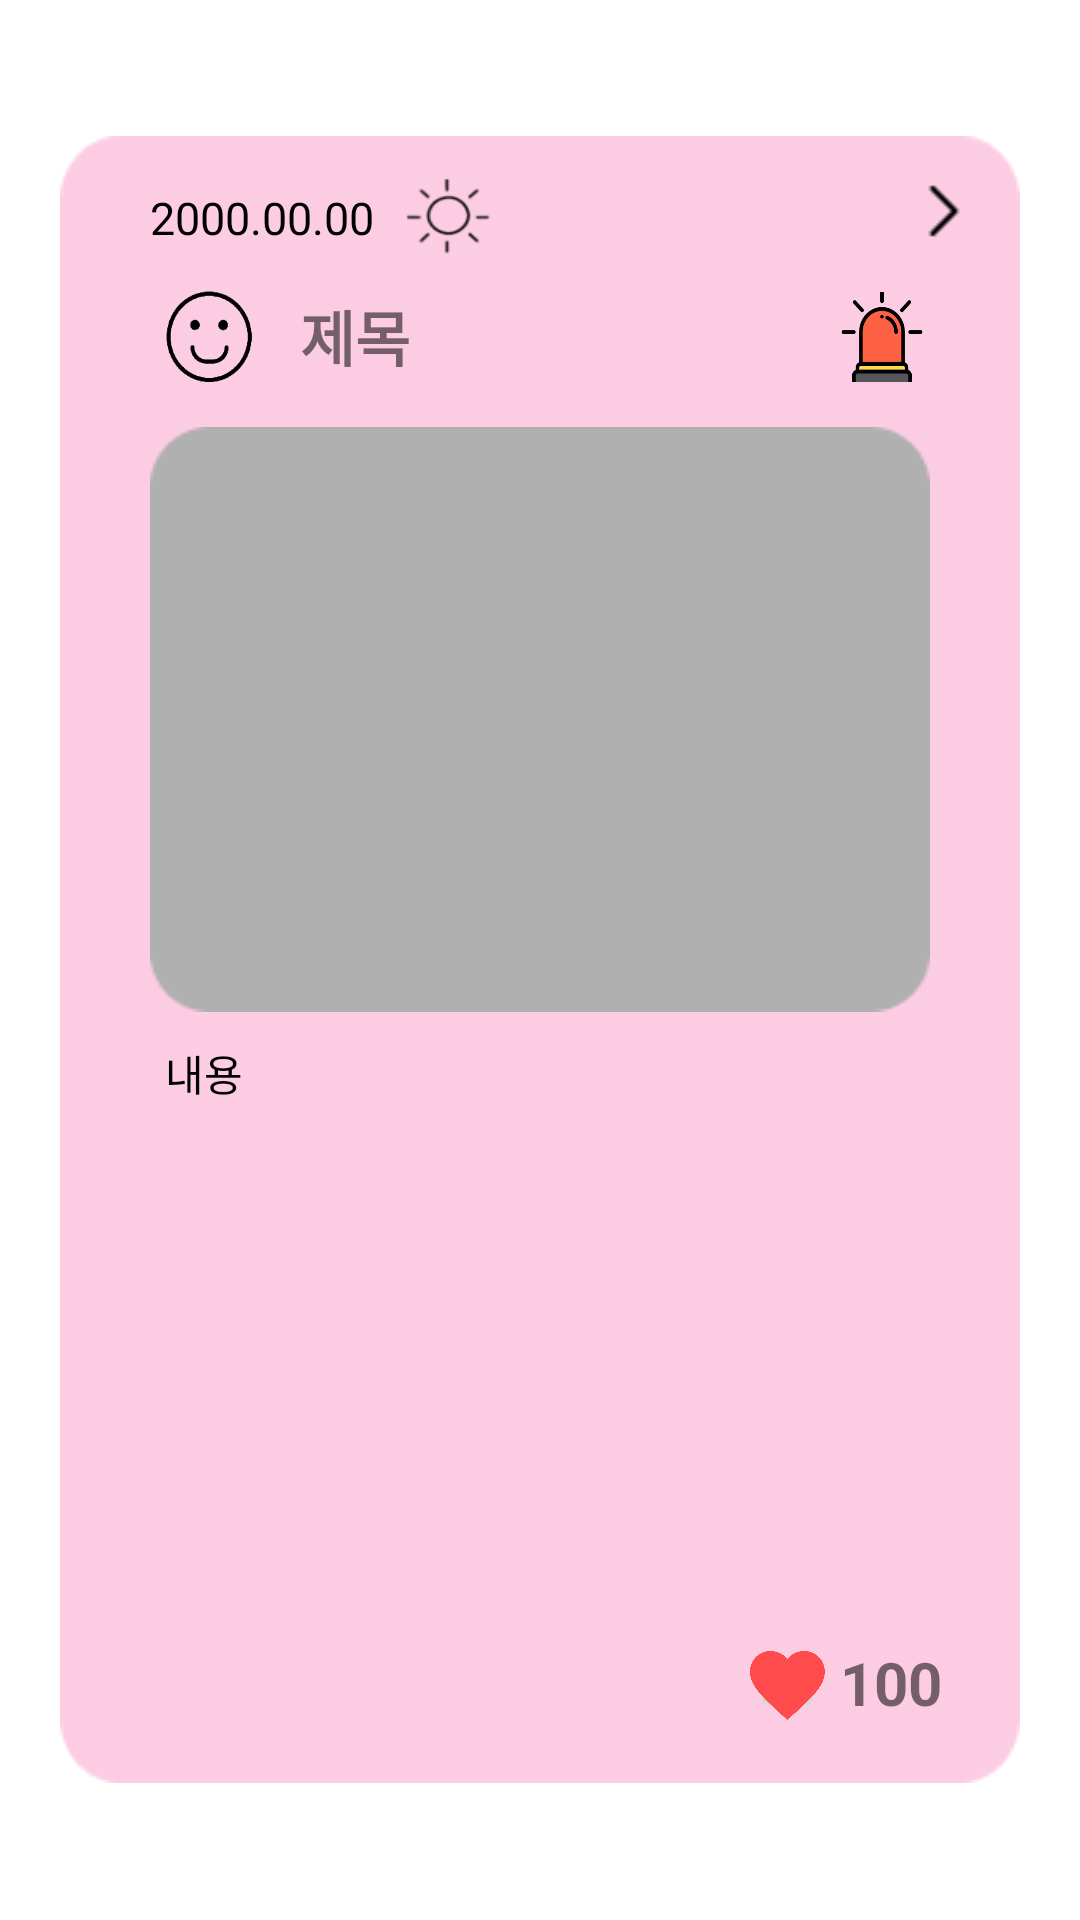

Named icons in this screenshot (1080x1920) and their centers, (x=x, y=y):
heart: (x=787, y=1685)
mood: (x=209, y=336)
report: (x=882, y=337)
right arrow: (x=944, y=211)
sun: (x=448, y=216)
